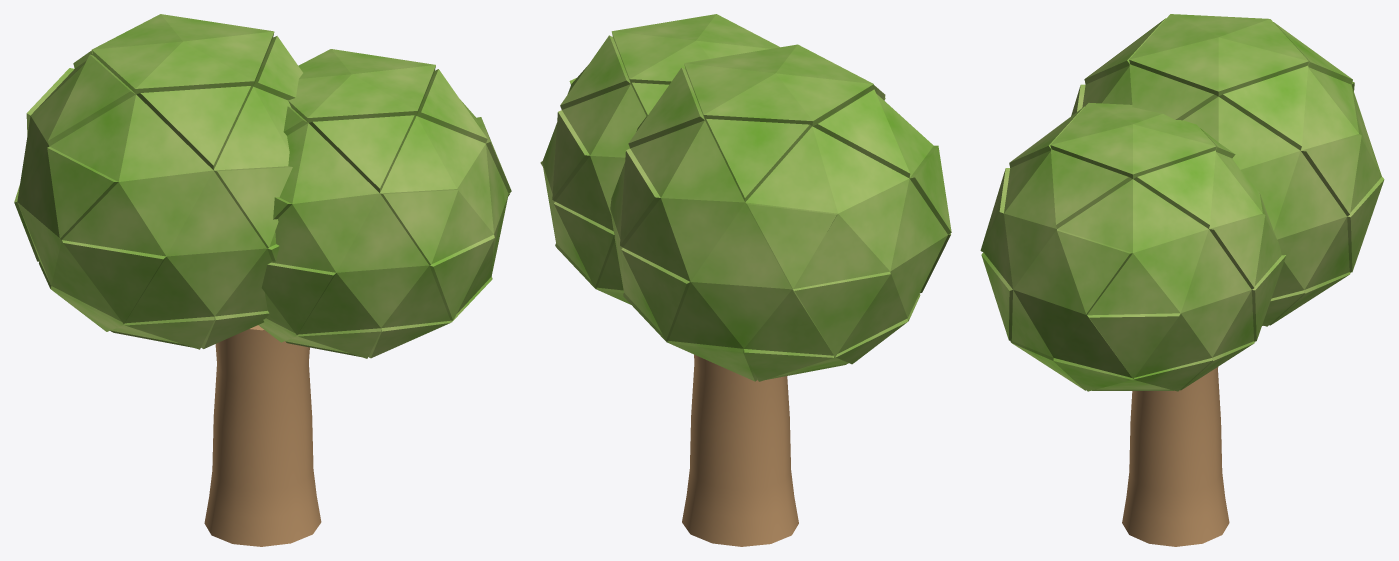
The model's file is tree-3.glb.
3 renders of one model, left to right at view 1: azimuth 30°, elevation 25°; view 2: azimuth 150°, elevation 25°; view 3: azimuth 270°, elevation 25°, orthographic. The views are drawn at different scales.
Visible parts, largest first — view 1: LeafCluster_3B, LeafCluster_3A, Trunk_Lv3; view 2: LeafCluster_3B, LeafCluster_3A, Trunk_Lv3; view 3: LeafCluster_3A, LeafCluster_3B, Trunk_Lv3.
Boxes of the visible parts, x1,y1,x2,y2 form: LeafCluster_3B: [14, 14, 302, 349]; LeafCluster_3A: [258, 49, 511, 358]; Trunk_Lv3: [204, 325, 321, 546]; LeafCluster_3B: [610, 44, 951, 381]; LeafCluster_3A: [540, 14, 779, 304]; Trunk_Lv3: [682, 354, 798, 546]; LeafCluster_3A: [980, 103, 1286, 391]; LeafCluster_3B: [1071, 14, 1384, 326]; Trunk_Lv3: [1122, 367, 1229, 546].
Bounding box in the file's own units: 2.23 × 2.5 × 1.99.
2 materials, 1 textured.
